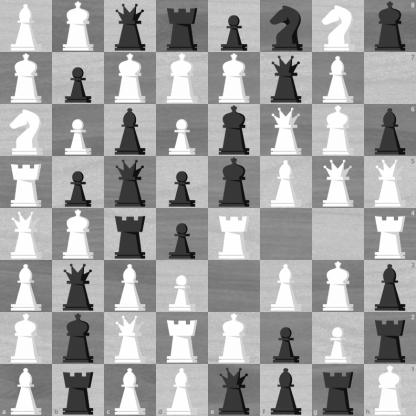B: (156, 364, 209, 416), (0, 364, 52, 416), (104, 364, 156, 416), (1, 1, 52, 52), (1, 261, 52, 312), (105, 261, 156, 312), (261, 157, 312, 208), (261, 261, 312, 312), (313, 53, 364, 104)
K: (364, 364, 416, 416), (1, 53, 52, 104), (1, 313, 52, 364), (53, 1, 104, 52), (53, 209, 104, 260), (105, 53, 156, 104), (157, 53, 208, 104), (209, 53, 260, 104), (209, 313, 260, 364), (313, 105, 364, 156), (313, 261, 364, 312)
N: (1, 105, 52, 156), (313, 1, 364, 52)
P: (53, 105, 104, 156), (157, 105, 208, 156), (157, 261, 208, 312), (313, 313, 364, 364)
Q: (364, 156, 416, 209), (1, 209, 52, 260), (105, 313, 156, 364), (261, 105, 312, 156), (313, 157, 364, 208)
R: (364, 209, 416, 260), (1, 157, 52, 208), (157, 313, 208, 364), (209, 209, 260, 260)
b: (260, 364, 312, 416), (364, 104, 416, 156), (364, 260, 416, 312), (105, 105, 156, 156)
board: (0, 0, 415, 415)
k: (364, 0, 416, 52), (53, 313, 104, 364), (209, 105, 260, 156), (209, 157, 260, 208)
n: (261, 1, 312, 52)
p: (53, 53, 104, 104), (53, 157, 104, 208), (157, 157, 208, 208), (157, 209, 208, 260), (209, 1, 260, 52), (261, 313, 312, 364)
q: (209, 364, 260, 416), (53, 261, 104, 312), (105, 1, 156, 52), (105, 157, 156, 208), (261, 53, 312, 104)
r: (52, 364, 104, 416), (312, 364, 364, 416), (364, 312, 416, 364), (105, 209, 156, 260), (157, 1, 208, 52)
